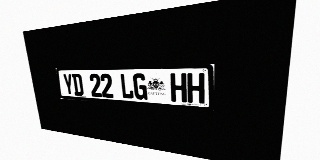2: (100, 73, 113, 98), (89, 74, 102, 97)
D: (72, 74, 84, 96)
G: (133, 73, 148, 100)
H: (187, 73, 205, 104), (170, 73, 187, 103)
L: (120, 73, 134, 99)
Y: (62, 74, 74, 95)
